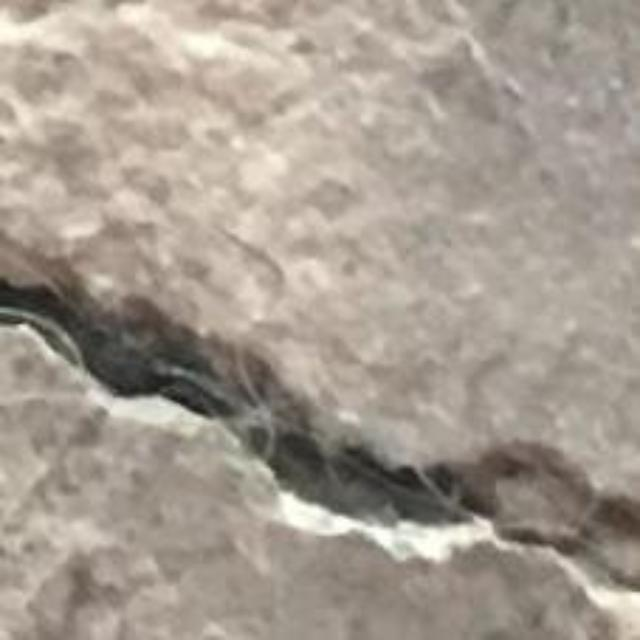crack: (0, 243, 639, 589)
